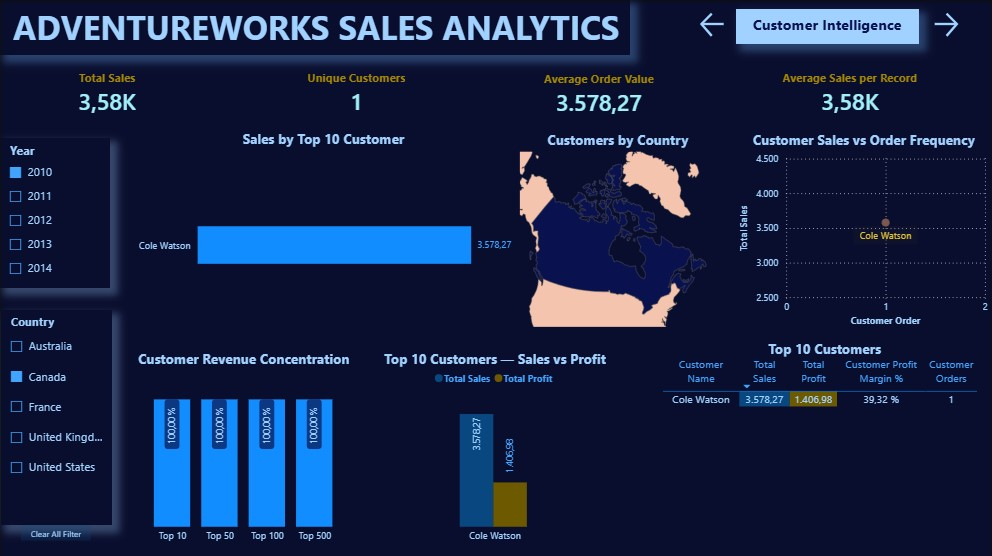

This screenshot's page, from the dashboard's own definition file:
{"tool":"powerbi","page":{"name":"Customer Intelligence","canvas":[1280,720],"ordinal":2},"visuals":[{"type":"cardVisual","fields":{"Data":["sales_featured.Average Order Value"]},"box":[638.2,72.6,268.5,96],"z":0,"group":"g1"},{"type":"slicer","fields":{"Values":["DimDate.Year"]},"box":[0,177.8,142.4,192.9],"z":0},{"type":"group","id":"g1","title":"Group 1","box":[0.8,70.9,1243.6,97.7],"z":1000},{"type":"textbox","box":[0,0,813.1,71.3],"z":2000},{"type":"cardVisual","fields":{"Data":["sales_featured.Total Sales"]},"box":[0.8,70.9,274.3,96],"z":2000,"group":"g1"},{"type":"cardVisual","fields":{"Data":["sales_featured.Unique Customers"]},"box":[261.2,71.3,396.1,96],"z":3000,"group":"g1"},{"type":"slicer","fields":{"Values":["sales_featured.Country"]},"box":[1.5,400,142.5,277.8],"z":3000},{"type":"textbox","box":[949.8,11.6,235.6,45.1],"z":4000},{"type":"cardVisual","fields":{"Data":["sales_featured.Average Sales per Record"]},"box":[949.5,71.1,294.9,96],"z":4000,"group":"g1"},{"type":"clusteredBarChart","title":"Sales by Top 10 Customer","fields":{"Category":["sales_featured.Customer Name"],"Y":["sales_featured.Total Sales"]},"box":[168.4,166.7,496.8,271.2],"z":5000},{"type":"shapeMap","title":"Customers by Country","fields":{"Category":["sales_featured.Country"],"Value":["sales_featured.Unique Customers"]},"box":[666.2,167.3,263.3,258.9],"z":6000},{"type":"lineClusteredColumnComboChart","title":"Customer Revenue Concentration","fields":{"Category":["Customer Concentration.Customer Group"],"Y":["Customer Concentration.Customer Concentration %"]},"box":[168.4,449.7,291.4,259.4],"z":7000},{"type":"clusteredColumnChart","title":"Top 10 Customers — Sales vs Profit","fields":{"Category":["sales_featured.Customer Name"],"Y":["sales_featured.Total Sales","sales_featured.Total Profit"]},"box":[427.8,449.7,421.1,259.4],"z":8000},{"type":"scatterChart","title":"Customer Sales vs Order Frequency","fields":{"Y":["sales_featured.Total Sales"],"X":["sales_featured.Customer Orders"],"Category":["sales_featured.Customer Name"]},"box":[949.8,167.3,330.2,258.9],"z":9000},{"type":"tableEx","title":"Top 10 Customers","fields":{"Values":["sales_featured.Customer Name","sales_featured.Total Sales","sales_featured.Total Profit","sales_featured.Customer Profit Margin %","sales_featured.Customer Orders"]},"box":[849.5,437.8,430.5,270.5],"z":10000},{"type":"actionButton","box":[1200,11.6,43.6,40.7],"z":11000},{"type":"actionButton","box":[897.5,11.6,43.6,40.7],"z":12000},{"type":"actionButton","box":[27.6,677.8,90.2,20.4],"z":12500}]}

Visuals, with their boxes in screenshot pixels (x1, y1, x2, y2), scaled from the page's 1280x720 canvas onto the 992x556 screenshot:
cardVisual - sales_featured.Average Order Value: [495,56,703,130]
slicer - DimDate.Year: [0,137,110,286]
"Group 1" group: [1,55,964,130]
textbox: [0,0,630,55]
cardVisual - sales_featured.Total Sales: [1,55,213,129]
cardVisual - sales_featured.Unique Customers: [202,55,509,129]
slicer - sales_featured.Country: [1,309,112,523]
textbox: [736,9,919,44]
cardVisual - sales_featured.Average Sales per Record: [736,55,964,129]
"Sales by Top 10 Customer" clusteredBarChart: [131,129,516,338]
"Customers by Country" shapeMap: [516,129,720,329]
"Customer Revenue Concentration" lineClusteredColumnComboChart: [131,347,356,548]
"Top 10 Customers — Sales vs Profit" clusteredColumnChart: [332,347,658,548]
"Customer Sales vs Order Frequency" scatterChart: [736,129,991,329]
"Top 10 Customers" tableEx: [658,338,991,547]
actionButton: [930,9,964,40]
actionButton: [696,9,729,40]
actionButton: [21,523,91,539]
